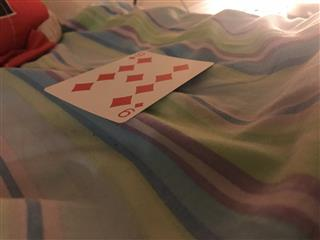NineOfDiamonds: (42, 49, 214, 123)
